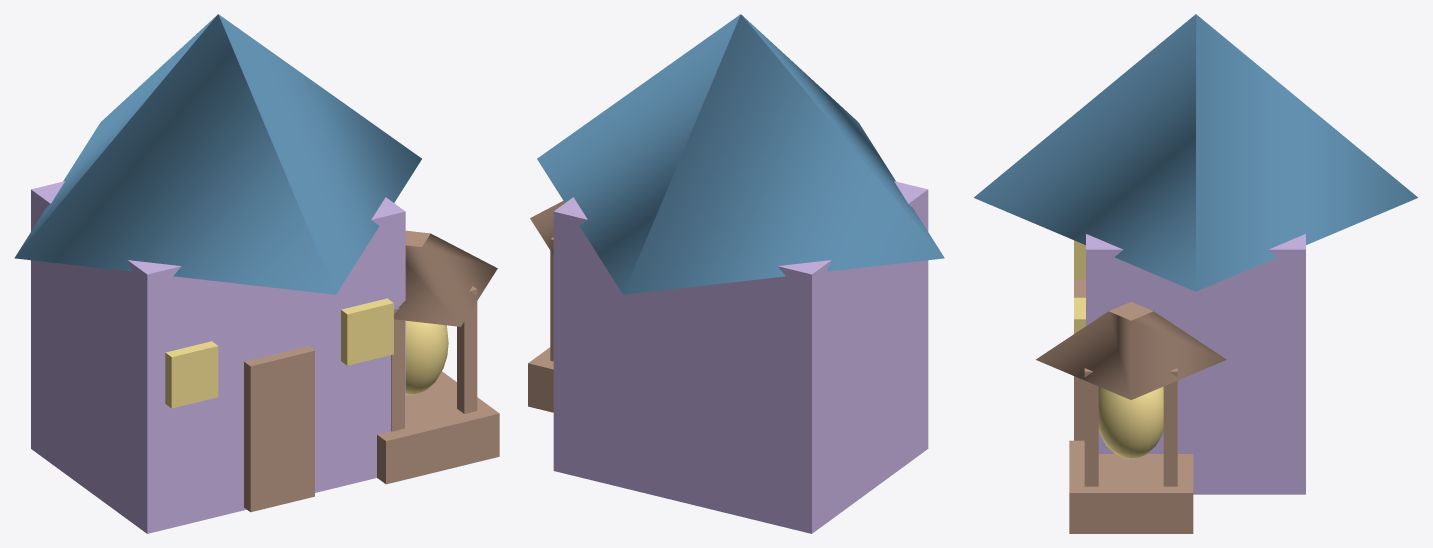
File: st_dream_cottage.glb
3 renders of one model, left to right at view 1: azimuth 30°, elevation 25°; view 2: azimuth 150°, elevation 25°; view 3: azimuth 270°, elevation 25°, orthographic. The views are drawn at different scales.
Parts seen in each view (by area): view 1: Fairy_Cottage; view 2: Fairy_Cottage; view 3: Fairy_Cottage.
Boxes of the visible parts, x1=… form: Fairy_Cottage: x1=14, y1=14, x2=499, y2=533; Fairy_Cottage: x1=528, y1=14, x2=944, y2=533; Fairy_Cottage: x1=974, y1=14, x2=1417, y2=533.
Bounding box in the file's own units: 1.74 × 1.65 × 1.58.
